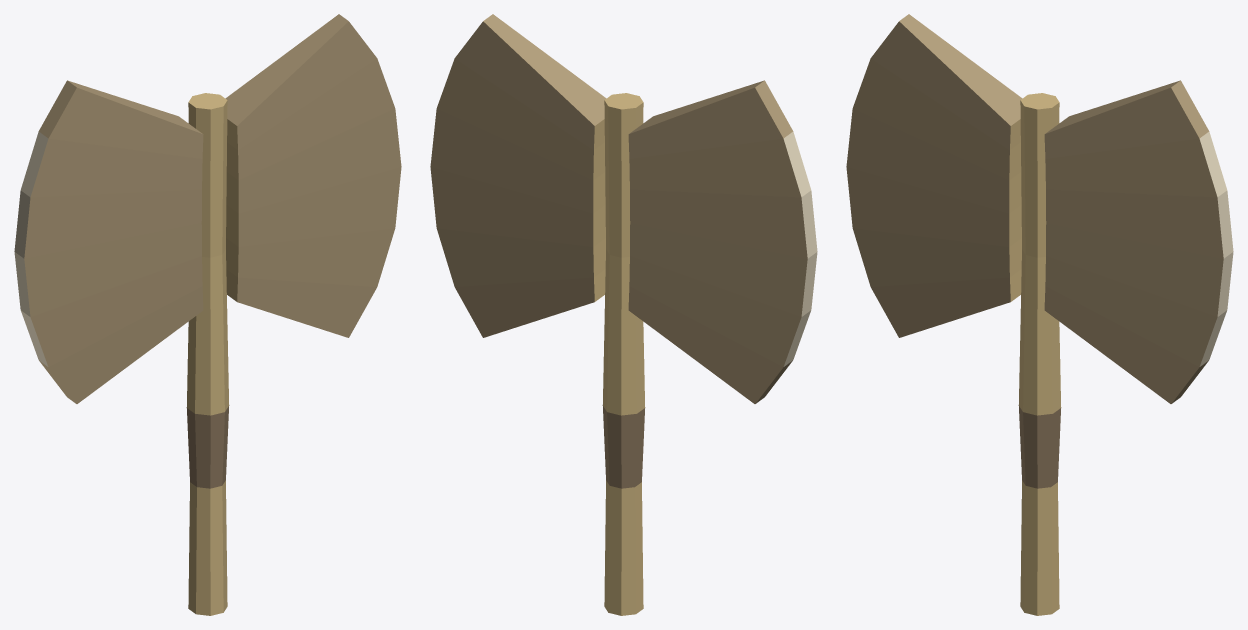
Rendered from gear_battleaxe_v1.glb.
3 views of the same model, side by side, from view 1: azimuth 30°, elevation 25°; view 2: azimuth 150°, elevation 25°; view 3: azimuth 330°, elevation 25° (orthographic).
Visible parts, largest first — view 1: gear_battleaxe; view 2: gear_battleaxe; view 3: gear_battleaxe.
Boxes of the visible parts, x1=… form: gear_battleaxe: x1=14, y1=14, x2=401, y2=615; gear_battleaxe: x1=430, y1=14, x2=817, y2=615; gear_battleaxe: x1=846, y1=14, x2=1233, y2=615.
Size of the model in its own units: 0.53 by 0.7478 by 0.06.
